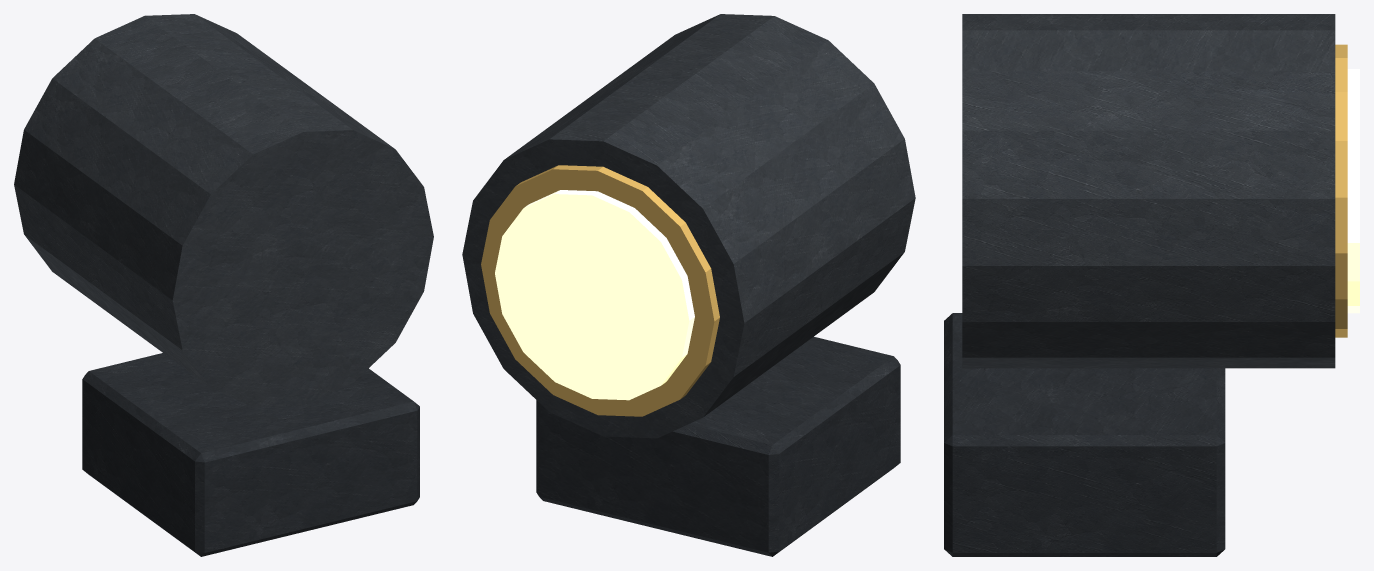
Rendered from train_headlight_front.gltf.
3 renders of one model, left to right at view 1: azimuth 30°, elevation 25°; view 2: azimuth 150°, elevation 25°; view 3: azimuth 270°, elevation 25°, orthographic. The views are drawn at different scales.
Size of the model in its own units: 0.58 by 0.84 by 0.68.
Materials: 4 (2 with a texture image).
